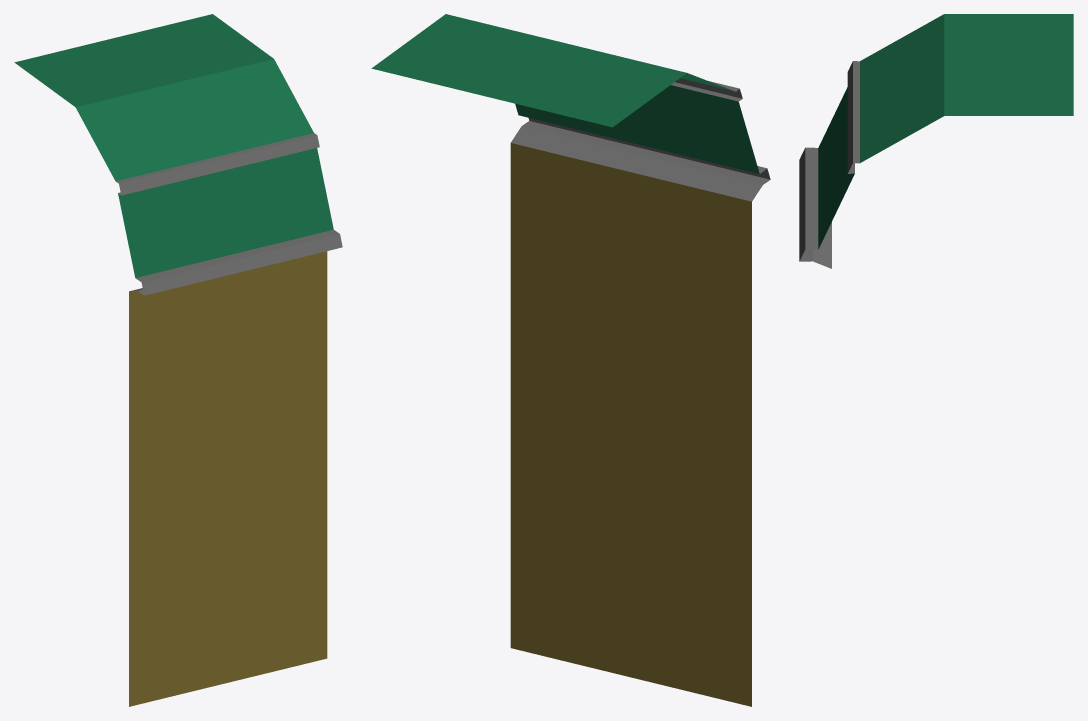
Rendered from wall.fbx.
The picture shows the model from 3 angles, left to right: view 1: azimuth 30°, elevation 25°; view 2: azimuth 150°, elevation 25°; view 3: azimuth 270°, elevation 25°; orthographic projection. The views are drawn at different scales.
Parts seen in each view (by area): view 1: Wall; view 2: Wall; view 3: Wall.
Boxes of the visible parts, left/top/right/bottom form: Wall: left=14, top=14, right=342, bottom=706; Wall: left=371, top=14, right=770, bottom=706; Wall: left=799, top=14, right=1073, bottom=268.
Size of the model in its own units: 100 by 270 by 113.
